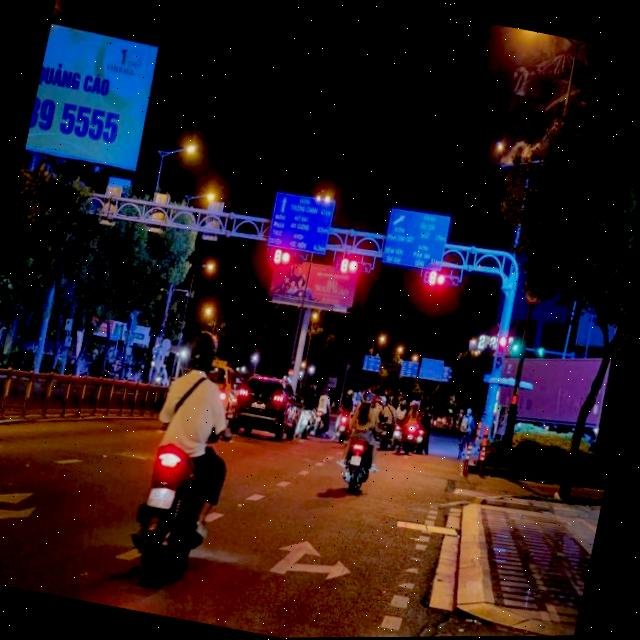motorcycle: (115, 412, 237, 600), (332, 430, 380, 500)
plate: (142, 479, 179, 515)
